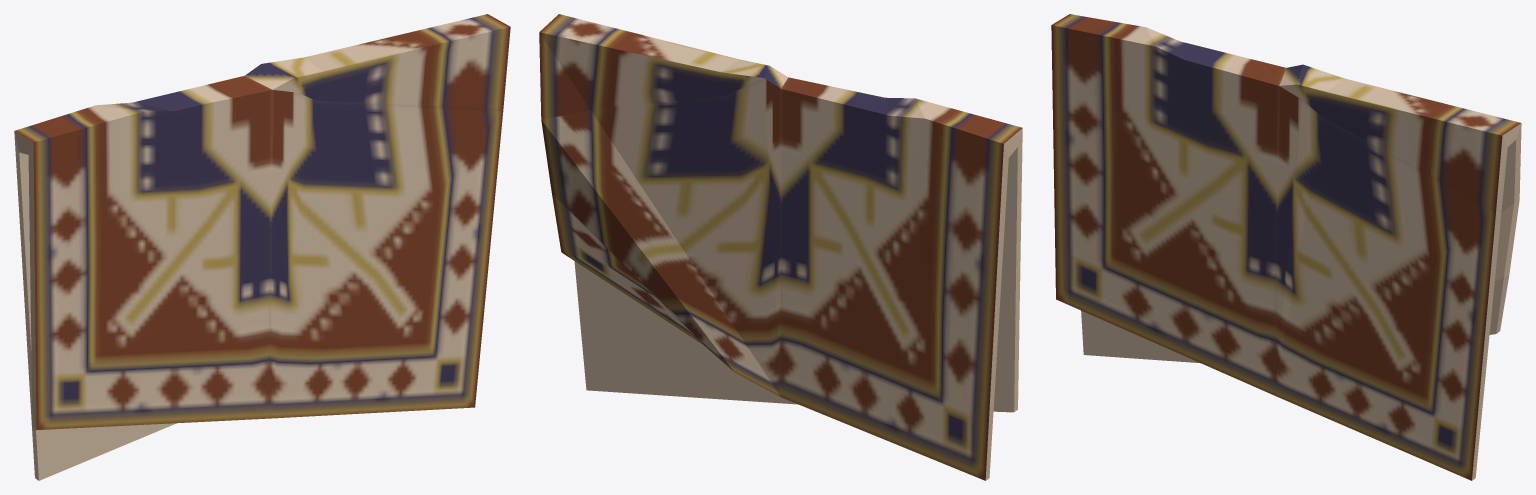
Rendered from SM_Prop_Rug_Hanging_04.fbx.
3 views of the same model, side by side, from view 1: azimuth 30°, elevation 25°; view 2: azimuth 150°, elevation 25°; view 3: azimuth 330°, elevation 25° (orthographic). The views are drawn at different scales.
Visible parts, largest first — view 1: SM_Prop_Rug_Hanging_04; view 2: SM_Prop_Rug_Hanging_04; view 3: SM_Prop_Rug_Hanging_04.
Boxes of the visible parts, x1,y1,x2,y2 form: SM_Prop_Rug_Hanging_04: (14,14,510,480); SM_Prop_Rug_Hanging_04: (539,14,1022,480); SM_Prop_Rug_Hanging_04: (1051,14,1521,480).
Bounding box in the file's own units: 155 × 118 × 14.31.
